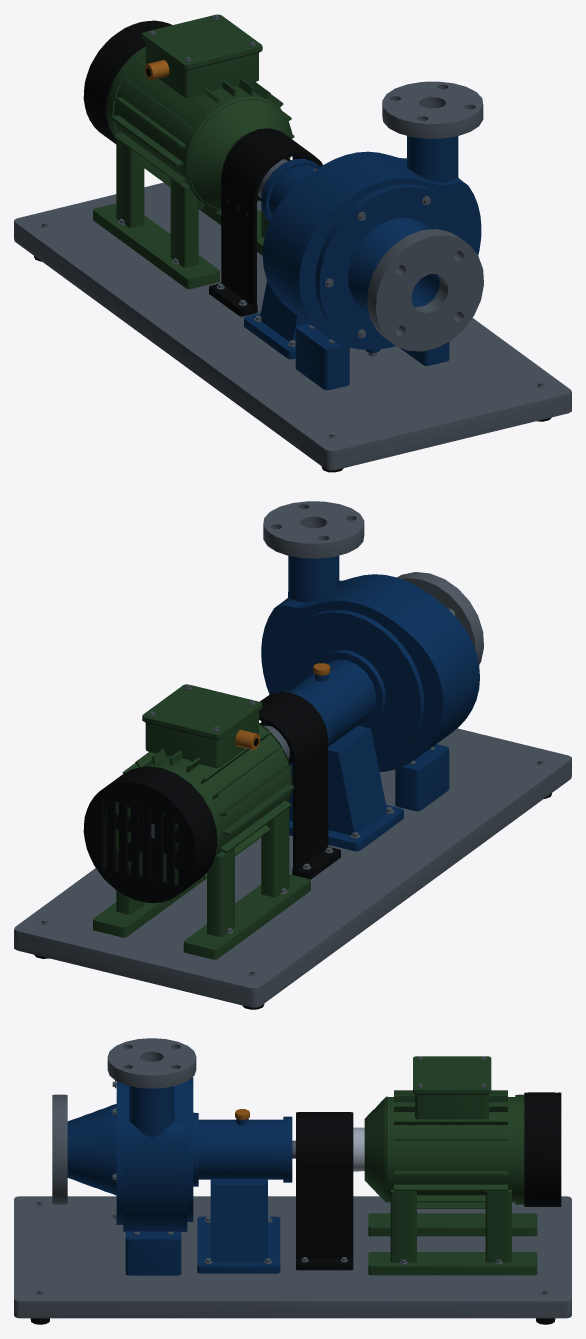
Rendered from motor.glb.
The picture shows the model from 3 angles, top to bottom: view 1: azimuth 30°, elevation 25°; view 2: azimuth 150°, elevation 25°; view 3: azimuth 270°, elevation 25°; orthographic projection. The views are drawn at different scales.
Parts seen in each view (by area): view 1: 000_drilled common base, 009_cast spiral volute and tangential discharge neck, 012_DN50 size suction bolting flange, 010_seated suction face cover, 042_removable ventilated coupling hood, 047_sealed finned motor housing, 048_motor front bearing end bell, 013_DN32 size discharge bolting flange, 087_terminal box screwed lid, 075_motor mounting rail -61, 011_bored tapered axial suction neck, 072_motor ventilated fan cowling (+11 smaller); view 2: 000_drilled common base, 009_cast spiral volute and tangential discharge neck, 072_motor ventilated fan cowling, 026_seated back cover and seal plate, 042_removable ventilated coupling hood, 028_tapered bearing pedestal, 027_bored pump bearing housing, 047_sealed finned motor housing, 013_DN32 size discharge bolting flange, 087_terminal box screwed lid, 075_motor mounting rail -61, 085_motor terminal box (+10 smaller); view 3: 000_drilled common base, 009_cast spiral volute and tangential discharge neck, 042_removable ventilated coupling hood, 047_sealed finned motor housing, 027_bored pump bearing housing, 028_tapered bearing pedestal, 072_motor ventilated fan cowling, 013_DN32 size discharge bolting flange, 011_bored tapered axial suction neck, 080_motor mounting rail 61, 087_terminal box screwed lid, 075_motor mounting rail -61 (+17 smaller).
Boxes of the visible parts, x1,y1,x2,y2 form: 000_drilled common base: (14, 182, 571, 470); 009_cast spiral volute and tangential discharge neck: (262, 136, 481, 349); 012_DN50 size suction bolting flange: (367, 229, 483, 351); 010_seated suction face cover: (315, 184, 467, 346); 042_removable ventilated coupling hood: (209, 128, 322, 316); 047_sealed finned motor housing: (114, 56, 291, 209); 048_motor front bearing end bell: (186, 96, 292, 210); 013_DN32 size discharge bolting flange: (382, 81, 483, 138); 087_terminal box screwed lid: (142, 14, 262, 69); 075_motor mounting rail -61: (93, 203, 219, 289); 011_bored tapered axial suction neck: (348, 218, 440, 312); 072_motor ventilated fan cowling: (83, 20, 172, 143); 000_drilled common base: (14, 728, 571, 1007); 009_cast spiral volute and tangential discharge neck: (261, 555, 479, 771); 072_motor ventilated fan cowling: (83, 766, 217, 902); 026_seated back cover and seal plate: (278, 609, 424, 763); 042_removable ventilated coupling hood: (259, 692, 340, 879); 028_tapered bearing pedestal: (289, 725, 386, 835); 027_bored pump bearing housing: (261, 650, 385, 763); 047_sealed finned motor housing: (144, 723, 290, 853); 013_DN32 size discharge bolting flange: (263, 501, 364, 558); 087_terminal box screwed lid: (142, 684, 262, 739); 075_motor mounting rail -61: (183, 874, 310, 959); 085_motor terminal box: (145, 711, 258, 767); 000_drilled common base: (14, 1196, 571, 1318); 009_cast spiral volute and tangential discharge neck: (123, 1081, 187, 1231); 042_removable ventilated coupling hood: (296, 1112, 353, 1270); 047_sealed finned motor housing: (385, 1097, 515, 1202); 027_bored pump bearing housing: (193, 1112, 292, 1186); 028_tapered bearing pedestal: (210, 1179, 267, 1261); 072_motor ventilated fan cowling: (524, 1092, 561, 1206); 013_DN32 size discharge bolting flange: (107, 1038, 196, 1088); 011_bored tapered axial suction neck: (67, 1104, 116, 1195); 080_motor mounting rail 61: (368, 1252, 537, 1275); 087_terminal box screwed lid: (413, 1056, 491, 1093); 075_motor mounting rail -61: (368, 1213, 537, 1236).
Size of the model in its own units: 0.33 by 0.358 by 0.74.
